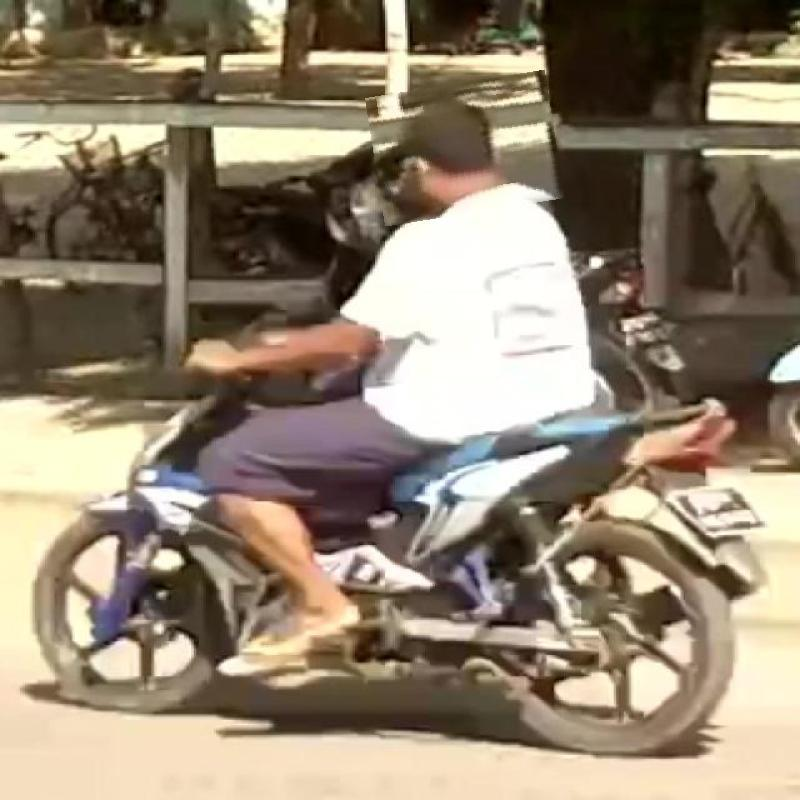nohelmet: (370, 76, 560, 219)
